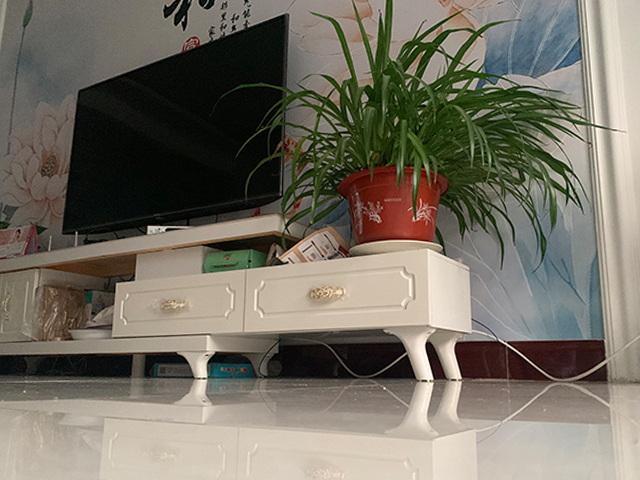cabinet: (1, 212, 474, 382)
wire: (471, 318, 640, 386)
